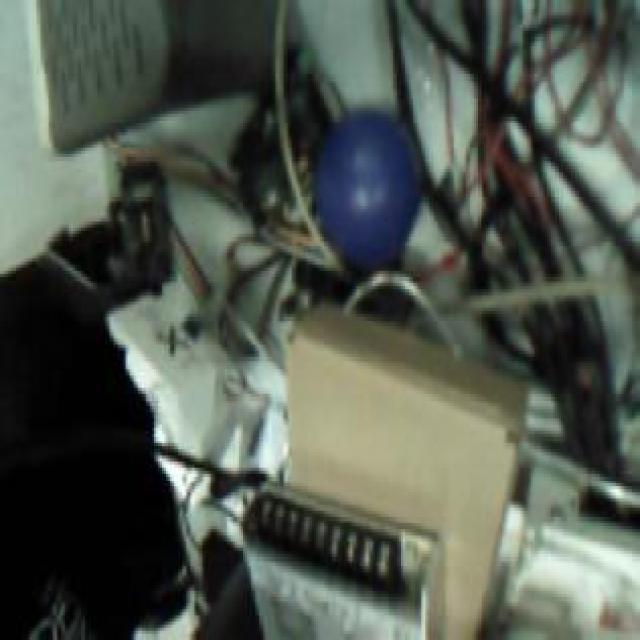BallPurple: (312, 106, 423, 270)
